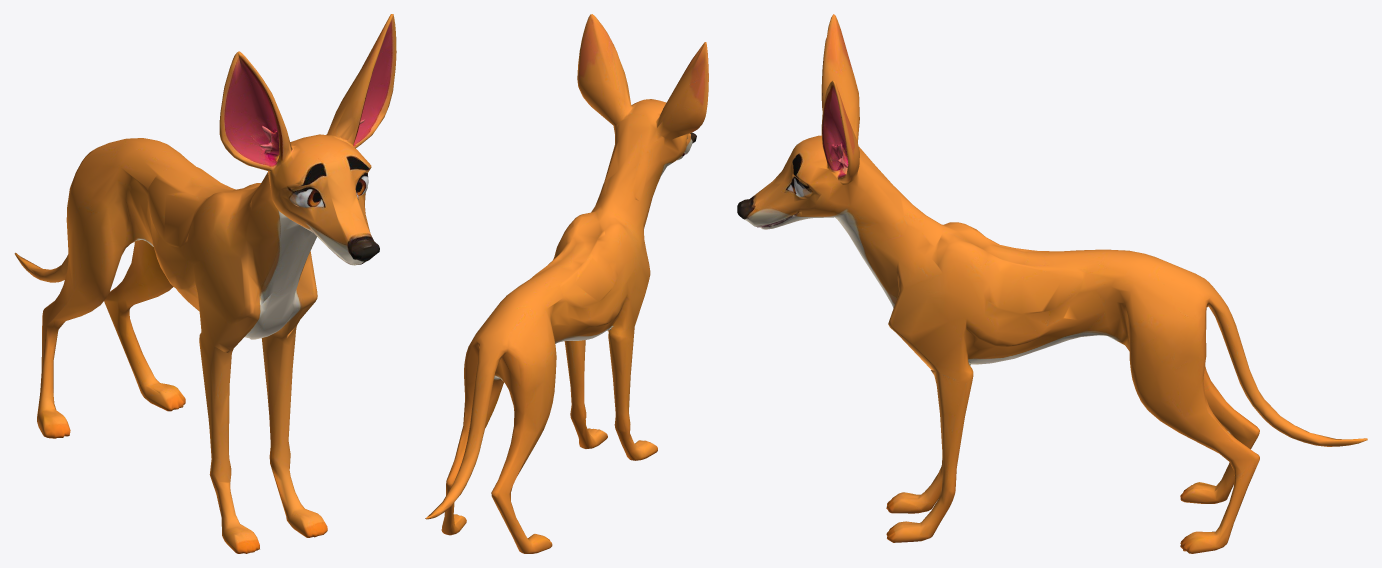
The model's file is dog.glb.
3 renders of one model, left to right at view 1: azimuth 30°, elevation 25°; view 2: azimuth 150°, elevation 25°; view 3: azimuth 270°, elevation 25°, orthographic. The views are drawn at different scales.
Bounding box in the file's own units: 0.5452 × 1.6 × 1.91.
1 material, 1 textured.
